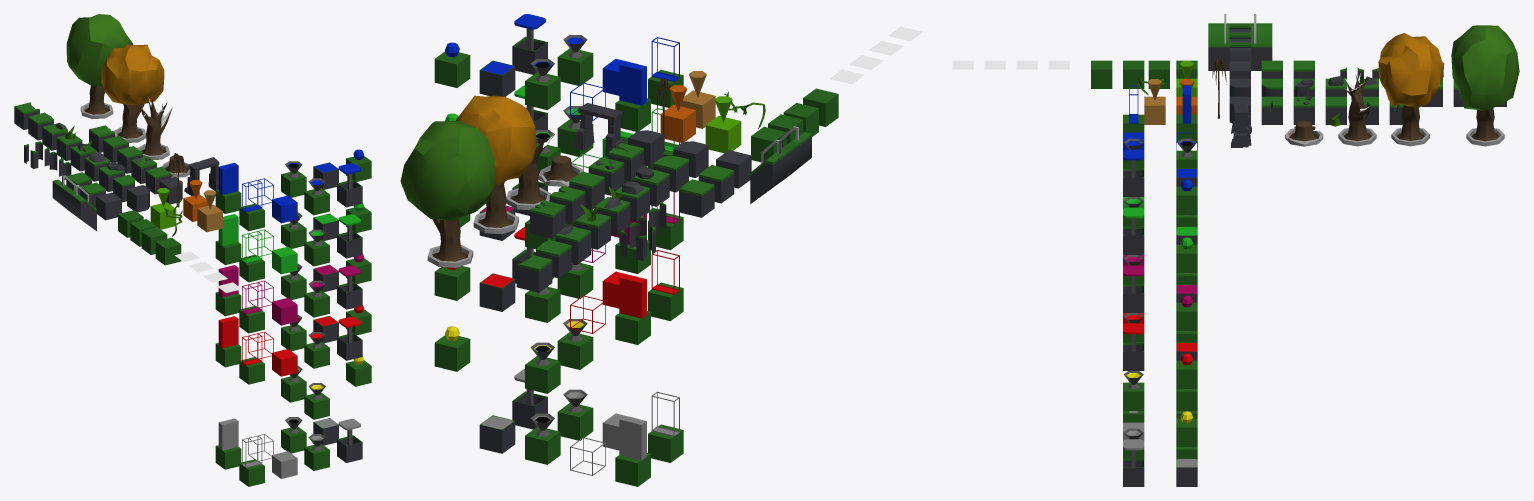
File: scenery.dae
3 renders of one model, left to right at view 1: azimuth 30°, elevation 25°; view 2: azimuth 150°, elevation 25°; view 3: azimuth 270°, elevation 25°, orthographic. The views are drawn at different scales.
Visible parts, largest first — view 1: 181_Tree-Autumn, 180_Tree-Summer, 182_Tree-Winter, 531R_Door-Closed, 731N_Door-Closed, 231B_Door-Closed, 331G_Door-Closed, 170_Stairs-Scenery, 431P_Door-Closed, 451P_Lift-Up, 251B_Lift-Up, 551R_Lift-Up (+60 smaller); view 2: 180_Tree-Summer, 181_Tree-Autumn, 731N_Door-Closed, 531R_Door-Closed, 231B_Door-Closed, 170_Stairs-Scenery, 190_Door-Scenery, 761N_Torch-On, 730N_Door, 530R_Door, 760N_Torch, 660Y_Torch (+49 smaller); view 3: 180_Tree-Summer, 181_Tree-Autumn, 170_Stairs-Scenery, 182_Tree-Winter, 251B_Lift-Up, 351G_Lift-Up, 451P_Lift-Up, 551R_Lift-Up, 751N_Lift-Up, 190_Door-Scenery, 10_Stairs, 231B_Door-Closed (+13 smaller).
Part boxes in pixels (x1,y1,x2,y2): 181_Tree-Autumn: [101, 44, 164, 142]; 180_Tree-Summer: [66, 14, 133, 118]; 182_Tree-Winter: [137, 96, 172, 159]; 531R_Door-Closed: [215, 316, 241, 367]; 731N_Door-Closed: [215, 418, 241, 469]; 231B_Door-Closed: [215, 162, 241, 213]; 331G_Door-Closed: [215, 214, 241, 265]; 170_Stairs-Scenery: [52, 175, 96, 231]; 431P_Door-Closed: [215, 265, 241, 316]; 451P_Lift-Up: [337, 265, 362, 309]; 251B_Lift-Up: [337, 163, 362, 207]; 551R_Lift-Up: [337, 316, 362, 360]; 180_Tree-Summer: [400, 121, 494, 267]; 181_Tree-Autumn: [455, 95, 535, 234]; 731N_Door-Closed: [615, 415, 650, 486]; 531R_Door-Closed: [615, 274, 650, 344]; 231B_Door-Closed: [615, 61, 650, 131]; 170_Stairs-Scenery: [750, 126, 811, 203]; 190_Door-Scenery: [573, 103, 624, 157]; 761N_Torch-On: [557, 389, 593, 440]; 730N_Door: [648, 391, 683, 462]; 530R_Door: [648, 250, 683, 320]; 760N_Torch: [525, 413, 560, 464]; 660Y_Torch: [525, 342, 560, 393]; 180_Tree-Summer: [1451, 25, 1519, 146]; 181_Tree-Autumn: [1378, 33, 1444, 146]; 170_Stairs-Scenery: [1208, 14, 1272, 70]; 182_Tree-Winter: [1338, 73, 1376, 146]; 251B_Lift-Up: [1123, 149, 1144, 196]; 351G_Lift-Up: [1123, 207, 1144, 254]; 451P_Lift-Up: [1123, 265, 1144, 312]; 551R_Lift-Up: [1123, 323, 1144, 370]; 751N_Lift-Up: [1123, 439, 1144, 486]; 190_Door-Scenery: [1231, 99, 1251, 147]; 10_Stairs: [1229, 23, 1250, 61]; 231B_Door-Closed: [1176, 85, 1197, 142].
Size of the model in its own units: 1700 by 2075 by 2660.
